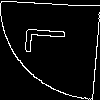L: (25, 25, 75, 57)
